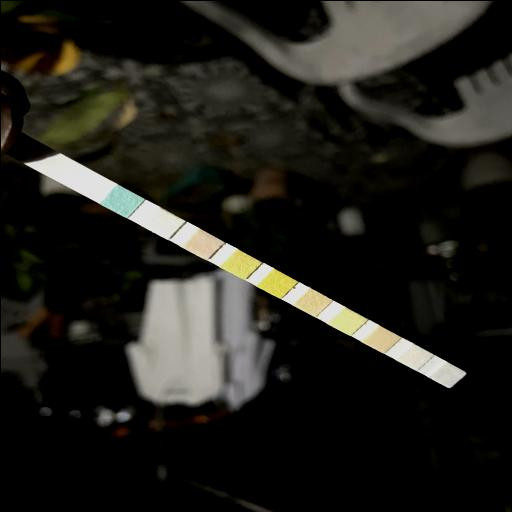Bilirubin: (153, 214, 173, 232)
Blood: (265, 275, 287, 291)
Glucose: (112, 192, 134, 210)
Ketone: (190, 236, 214, 251)
Leukocytes: (436, 366, 456, 380)
Nitrite: (403, 348, 423, 364)
Protein: (335, 313, 357, 328)
SpGravity: (230, 256, 252, 272)
Urobilinogen: (368, 331, 392, 345)
pH: (300, 294, 323, 309)
strip: (7, 132, 466, 387)
